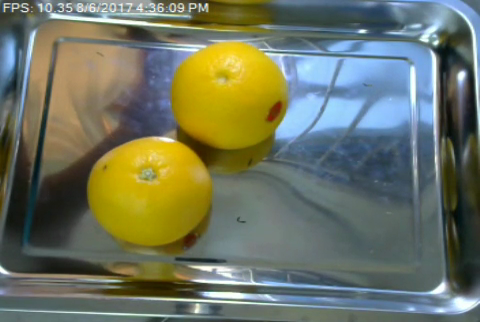Orange: (85, 134, 212, 244), (168, 40, 288, 149)
